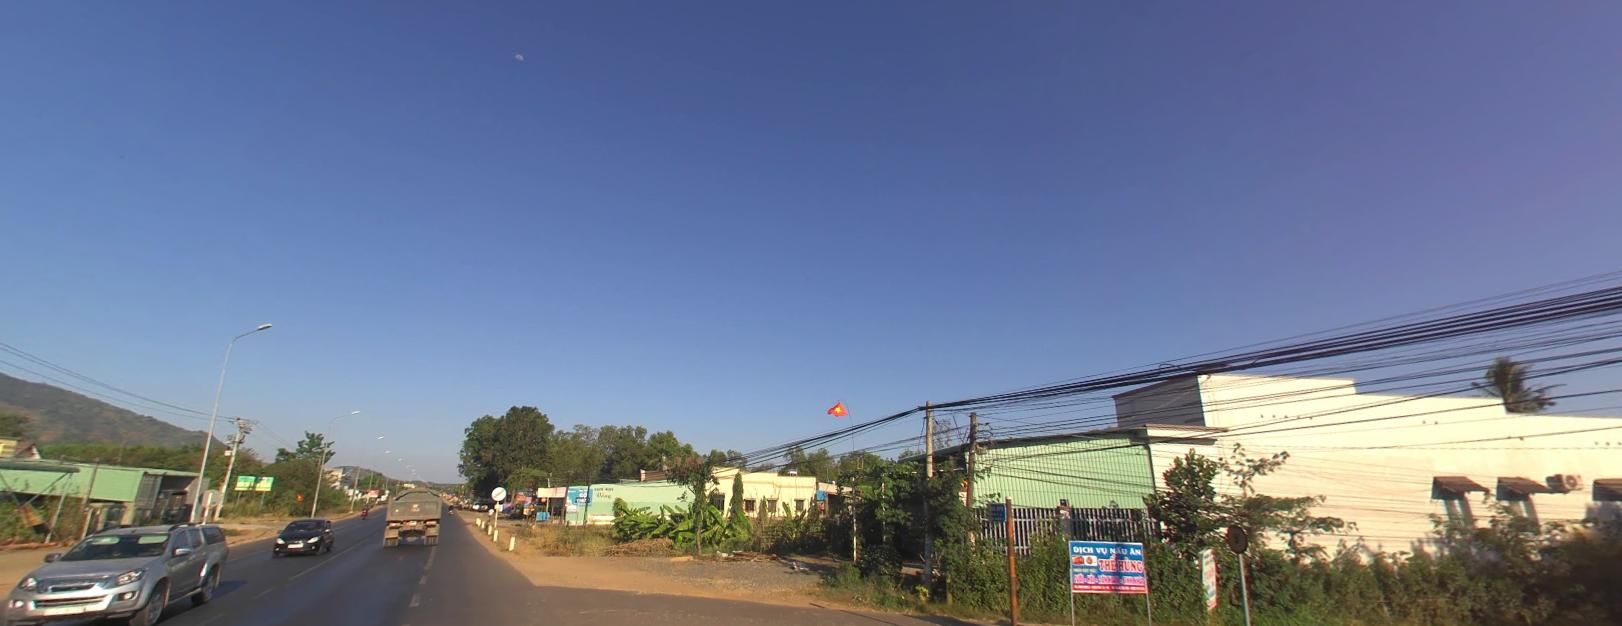Cam con lai: (490, 484, 507, 500), (491, 485, 507, 500)
